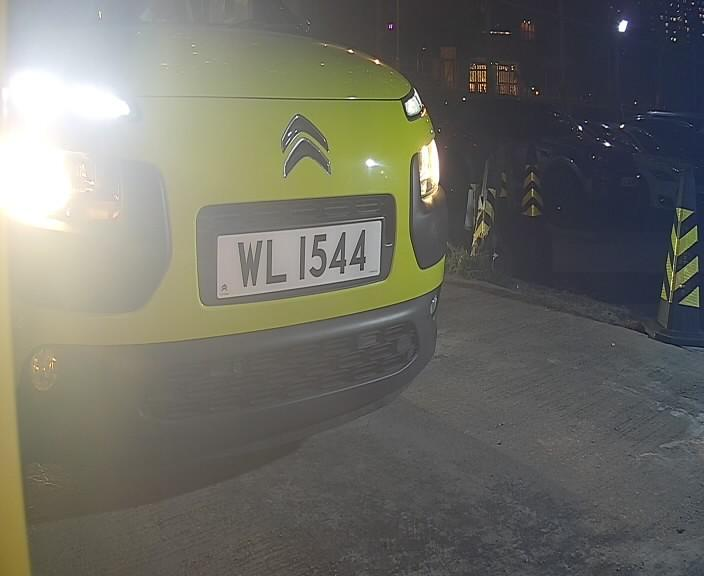privatecar: (1, 10, 458, 464)
